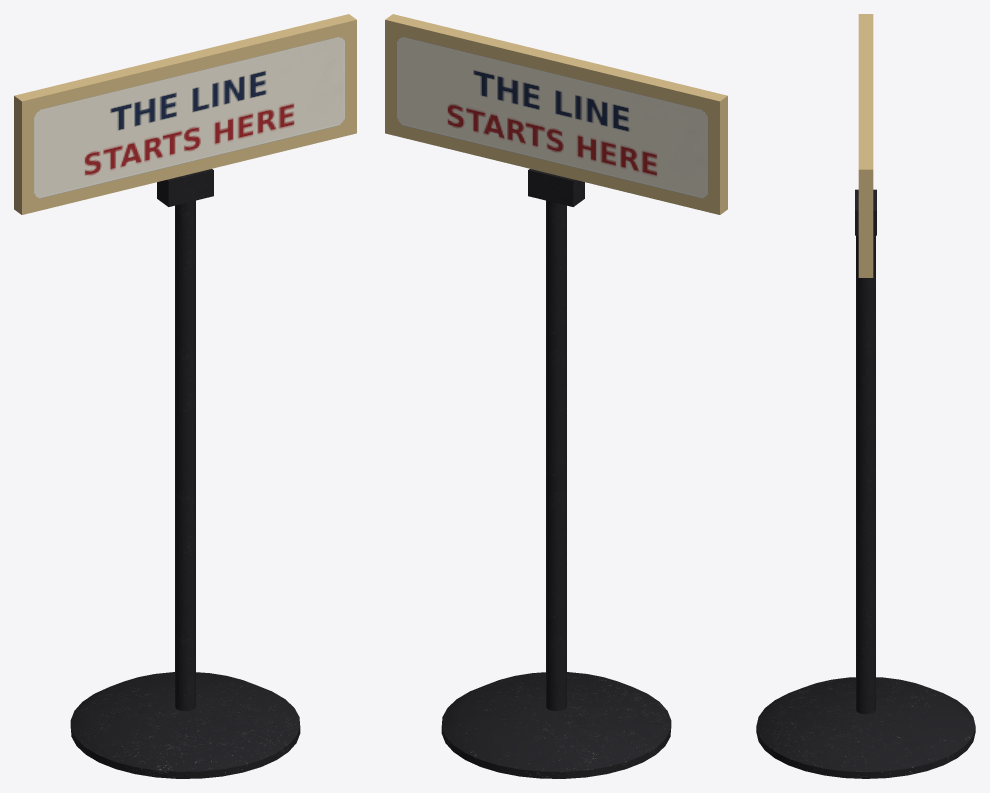
The model's file is SM_QUE_Sign_LineStarts.fbx.
The picture shows the model from 3 angles, left to right: view 1: azimuth 30°, elevation 25°; view 2: azimuth 150°, elevation 25°; view 3: azimuth 270°, elevation 25°; orthographic projection. The views are drawn at different scales.
Parts seen in each view (by area): view 1: SM_QUE_Sign_LineStarts; view 2: SM_QUE_Sign_LineStarts; view 3: SM_QUE_Sign_LineStarts.
Boxes of the visible parts, box(x1,y1,x2,y2) form: SM_QUE_Sign_LineStarts: box(14, 14, 356, 778); SM_QUE_Sign_LineStarts: box(385, 14, 727, 778); SM_QUE_Sign_LineStarts: box(756, 14, 975, 778).
Bounding box in the file's own units: 0.74 × 1.42 × 0.44.
